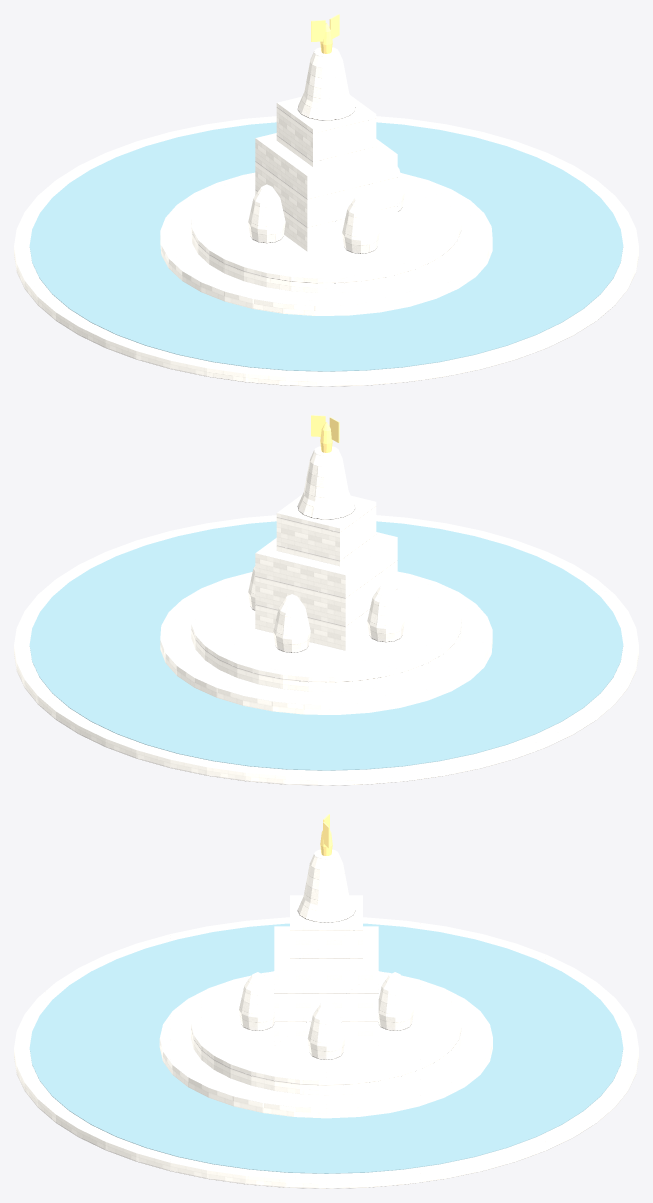
The model's file is victoria_memorial.glb.
The picture shows the model from 3 angles, top to bottom: view 1: azimuth 30°, elevation 25°; view 2: azimuth 150°, elevation 25°; view 3: azimuth 270°, elevation 25°; orthographic projection.
Visible parts, largest first — view 1: Water, Basin, Victory; view 2: Water, Basin, Victory; view 3: Water, Basin.
Boxes of the visible parts, left/top/right/bottom form: Water: left=29, top=122, right=623, bottom=371; Basin: left=14, top=47, right=638, bottom=386; Victory: left=311, top=14, right=339, bottom=53; Water: left=29, top=521, right=623, bottom=770; Basin: left=14, top=446, right=638, bottom=785; Victory: left=311, top=415, right=339, bottom=452; Water: left=29, top=923, right=623, bottom=1173; Basin: left=14, top=849, right=638, bottom=1188.
Bounding box in the file's own units: 60 × 25 × 60.
3 materials, 1 textured.
